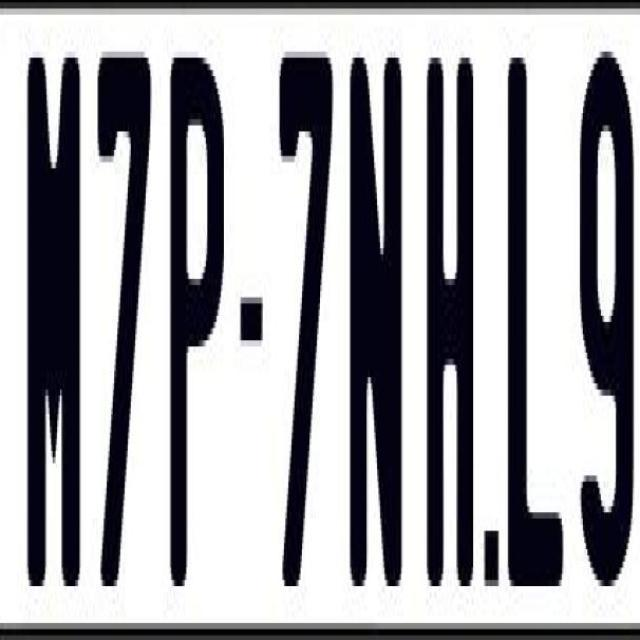license-plate: (4, 7, 640, 622)
